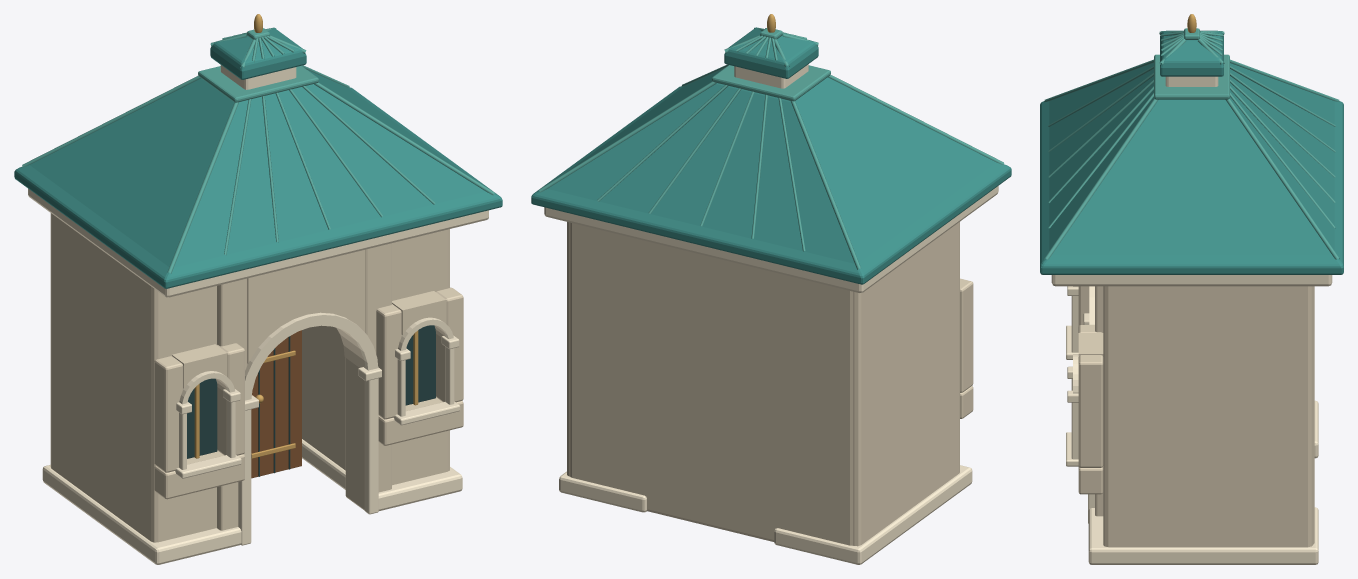
File: world01-gatehouse-v1.glb
3 renders of one model, left to right at view 1: azimuth 30°, elevation 25°; view 2: azimuth 150°, elevation 25°; view 3: azimuth 270°, elevation 25°, orthographic.
Parts seen in each view (by area): view 1: Ivory limestone, Patinated copper, Carved pale edges, Raised copper seams, Cedar doors, Deep blue recess, Warm brass; view 2: Ivory limestone, Patinated copper, Carved pale edges, Raised copper seams; view 3: Ivory limestone, Patinated copper, Carved pale edges, Raised copper seams.
Boxes of the visible parts, box(x1,y1,x2,y2) form: Ivory limestone: box(50, 213, 463, 542); Patinated copper: box(14, 28, 502, 288); Carved pale edges: box(28, 65, 488, 564); Raised copper seams: box(22, 27, 494, 273); Cedar doors: box(251, 330, 301, 478); Deep blue recess: box(187, 325, 435, 476); Warm brass: box(194, 14, 418, 458); Ivory limestone: box(567, 222, 973, 546); Patinated copper: box(531, 28, 1011, 284); Carved pale edges: box(544, 64, 998, 564); Raised copper seams: box(539, 27, 1004, 269); Ivory limestone: box(1078, 286, 1314, 547); Patinated copper: box(1040, 30, 1343, 274); Carved pale edges: box(1051, 76, 1332, 564); Raised copper seams: box(1044, 28, 1339, 259).
Bounding box in the file's own units: 6.68 × 9.02 × 5.2.
